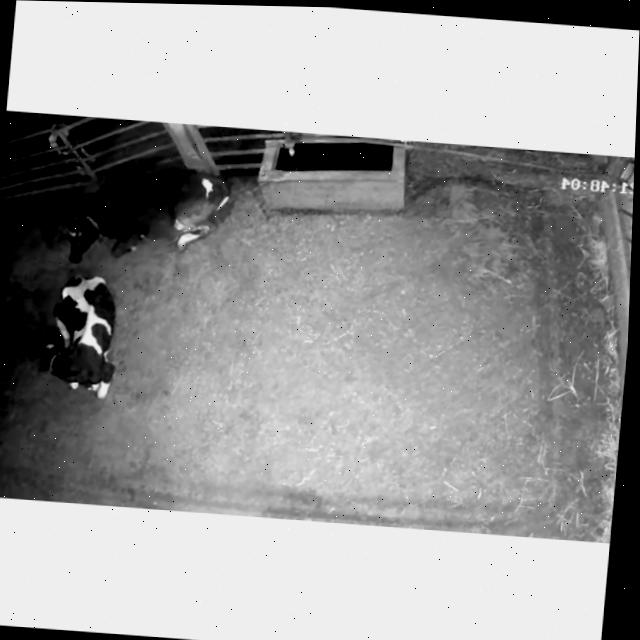lay: (42, 151, 237, 280), (26, 266, 128, 414)
